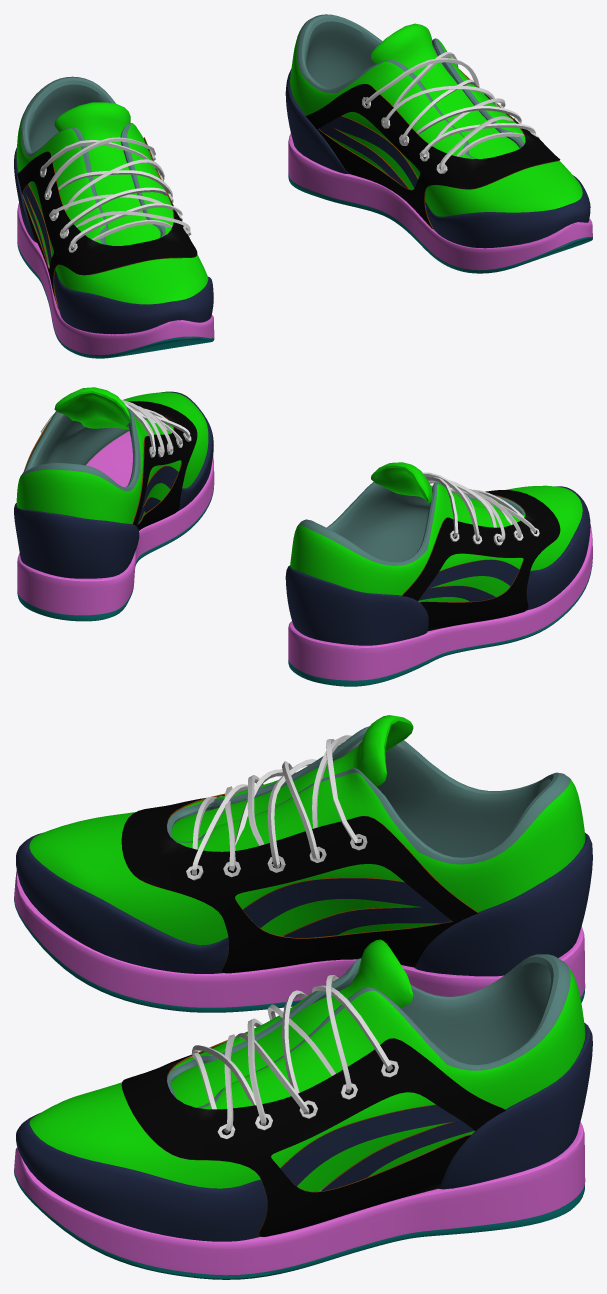
File: sneakers_1.glb
The picture shows the model from 3 angles, top to bottom: view 1: azimuth 30°, elevation 25°; view 2: azimuth 150°, elevation 25°; view 3: azimuth 270°, elevation 25°; orthographic projection. The views are drawn at different scales.
Parts seen in each view (by area): view 1: Shoe; view 2: Shoe; view 3: Shoe.
Part boxes in pixels (bbox=[...]): Shoe: bbox=[14, 14, 592, 358]; Shoe: bbox=[14, 387, 592, 686]; Shoe: bbox=[14, 715, 592, 1279].
Size of the model in its own units: 0.3548 by 0.1257 by 0.241.
